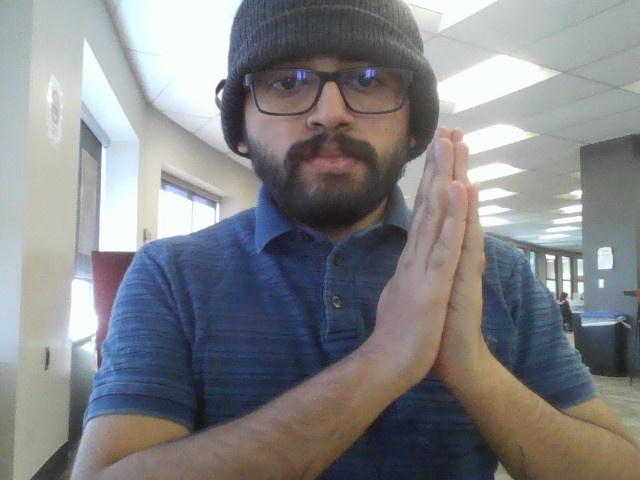start: (365, 123, 506, 442)
